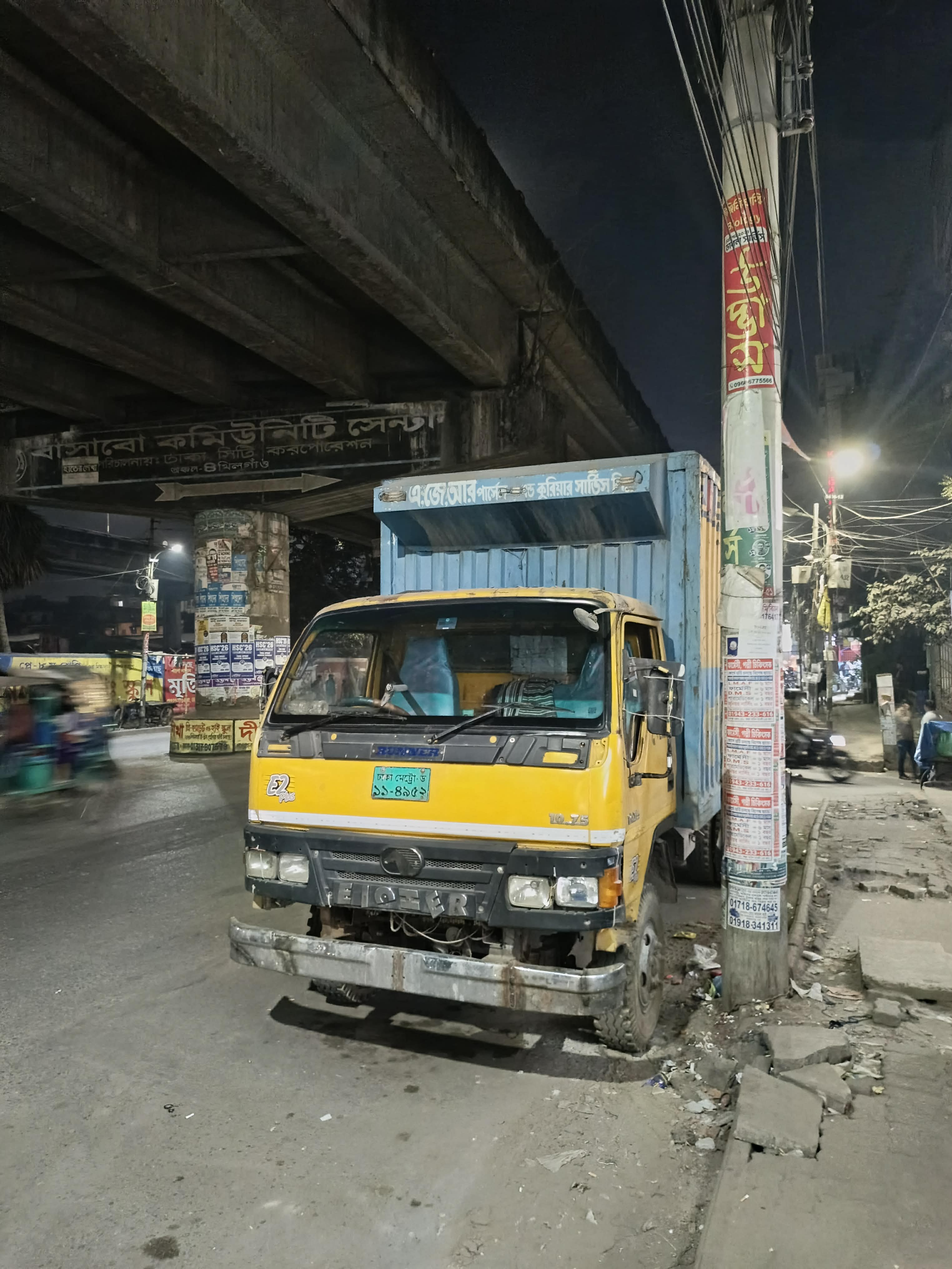Truck: (225, 438, 750, 1049)
